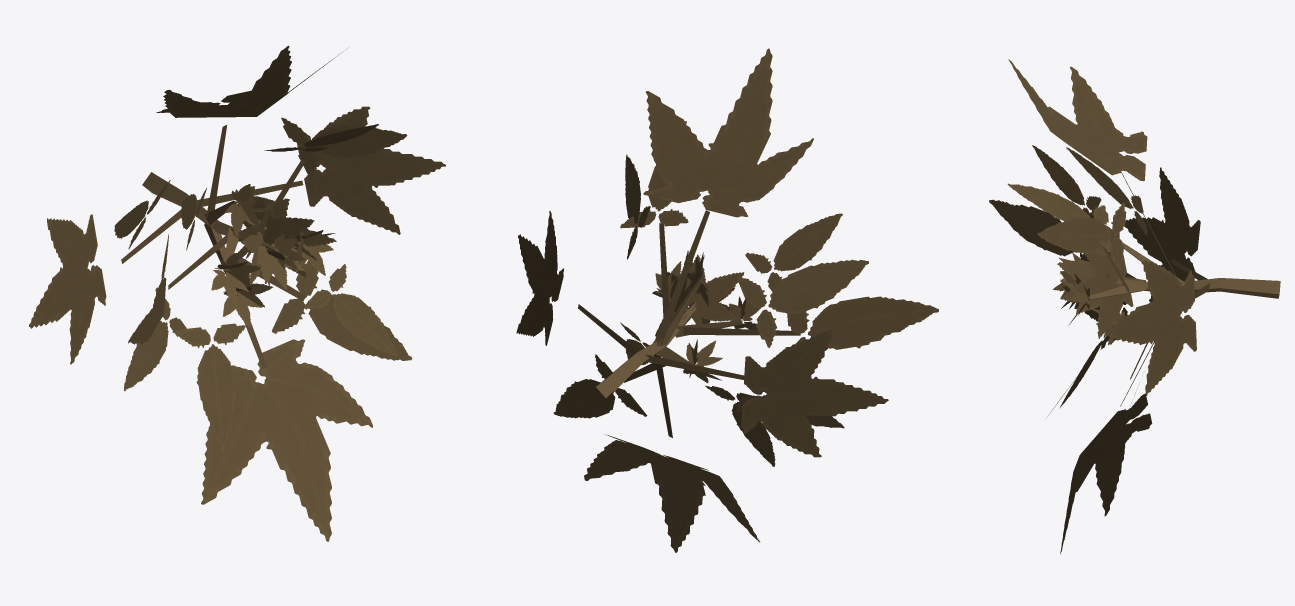
Rendered from p_auto_vegetative_c3_cards.obj.
3 views of the same model, side by side, from view 1: azimuth 30°, elevation 25°; view 2: azimuth 150°, elevation 25°; view 3: azimuth 270°, elevation 25° (orthographic). The views are drawn at different scales.
Size of the model in its own units: 0.854 by 1.04 by 0.577.
1 material, 1 textured.
